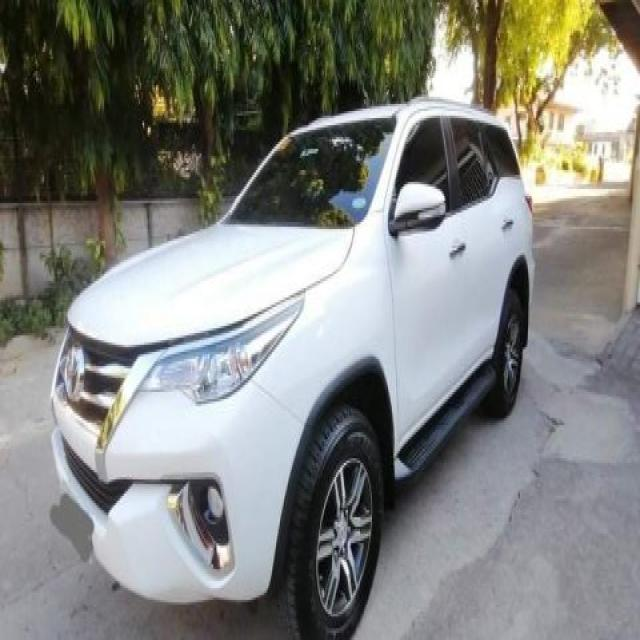light_vehicle: (49, 97, 535, 630)
